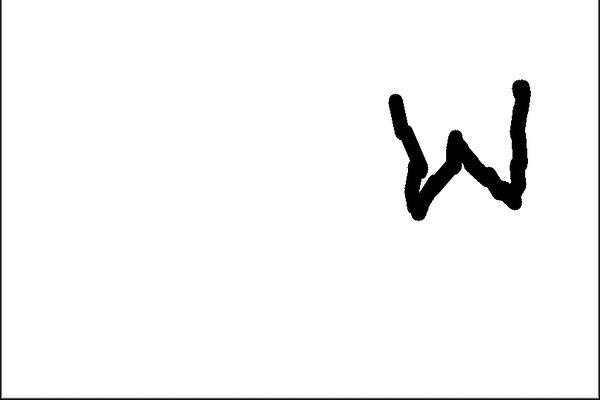w: (360, 59, 552, 227)
